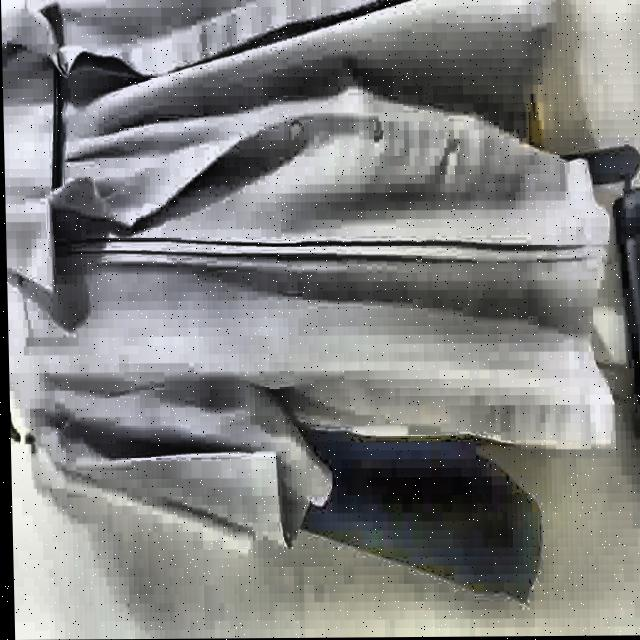clothes: (0, 3, 640, 566)
